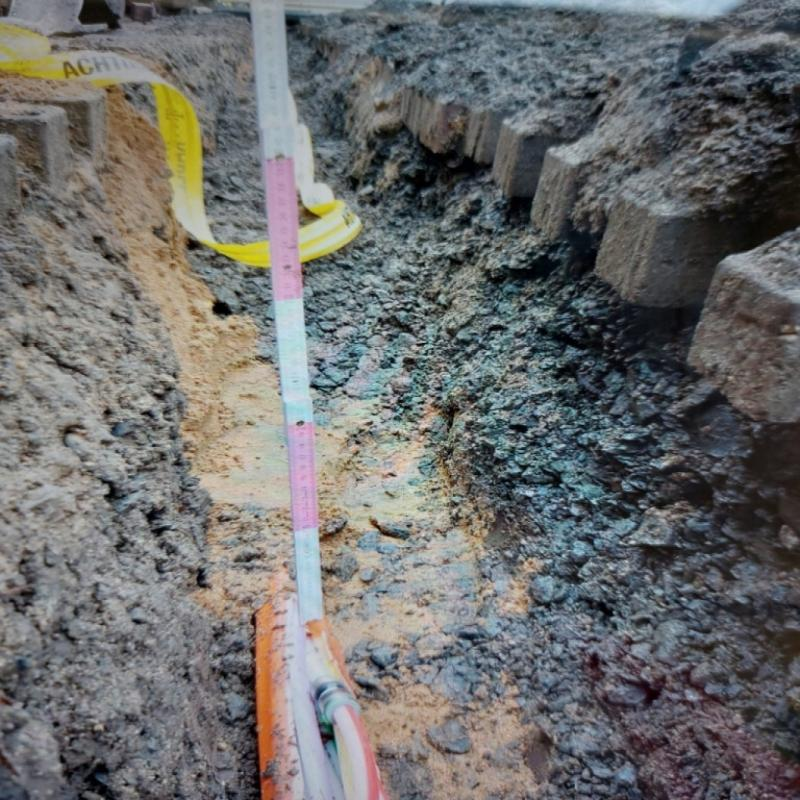Orang-Speednetrohrchen: (263, 597, 390, 800)
